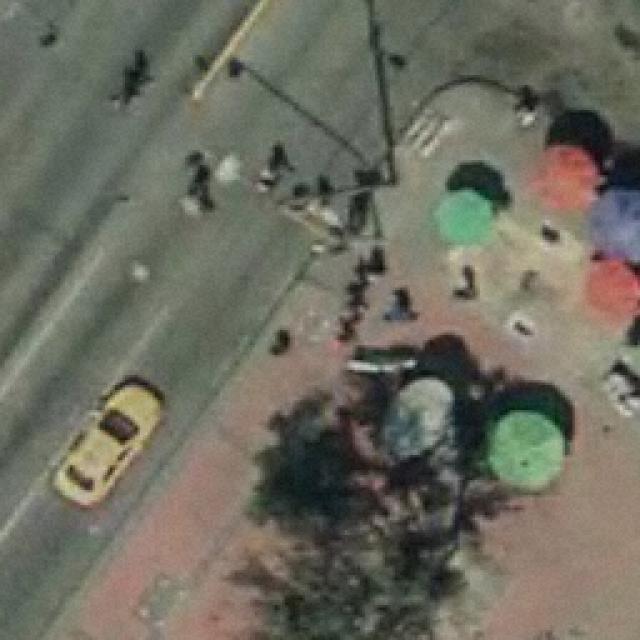vendedor_ambulante: (482, 410, 570, 490), (527, 139, 601, 213), (431, 183, 497, 250), (579, 253, 640, 325), (585, 187, 640, 266)
